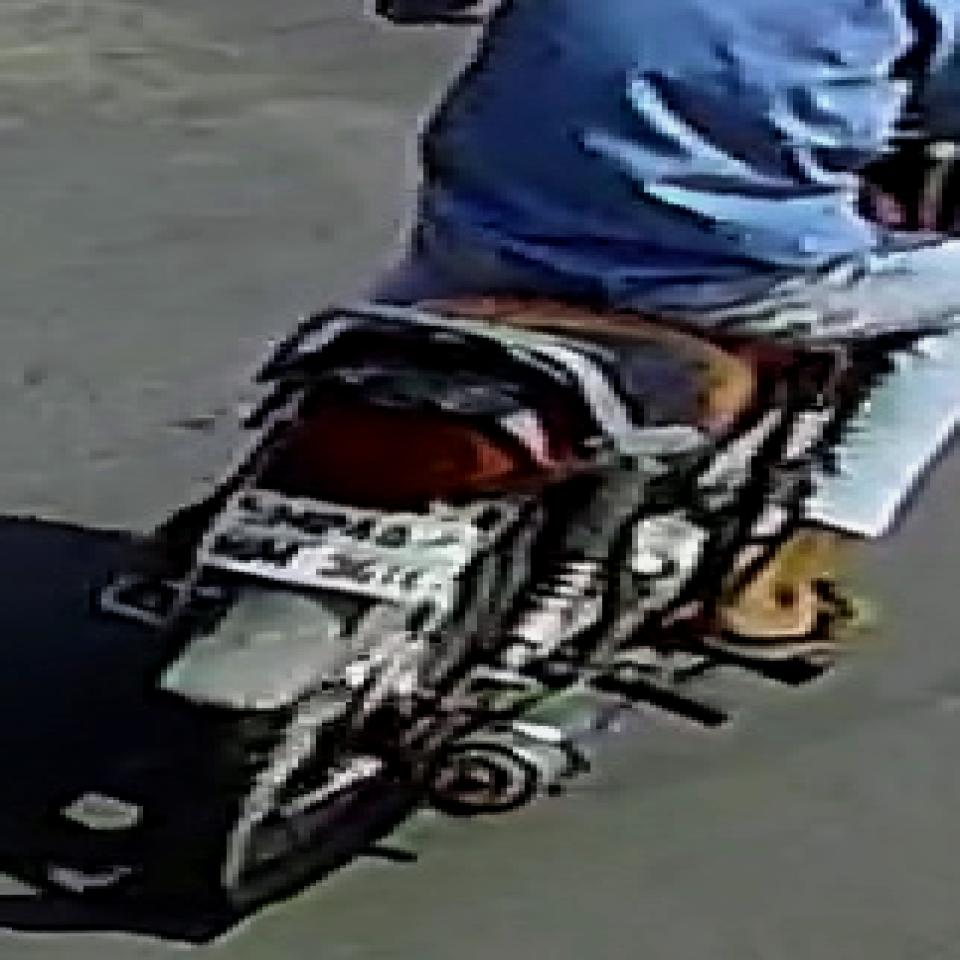tail_light: (296, 386, 512, 499)
